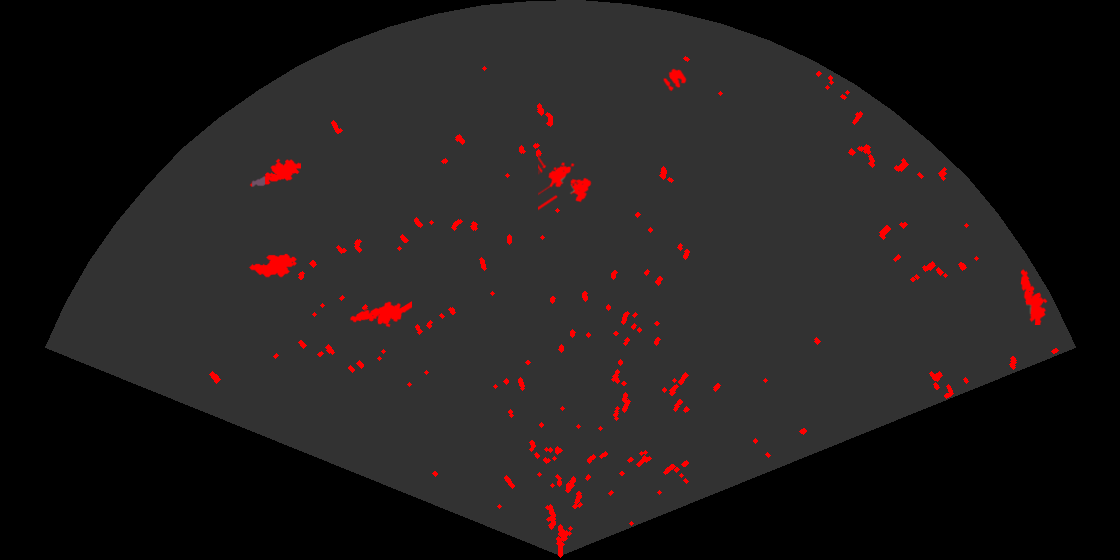AUV: (247, 252, 299, 278)
ball: (662, 67, 688, 93)
cage: (538, 154, 593, 212)
frogman: (348, 300, 412, 329), (1019, 268, 1049, 325), (249, 157, 301, 189)
